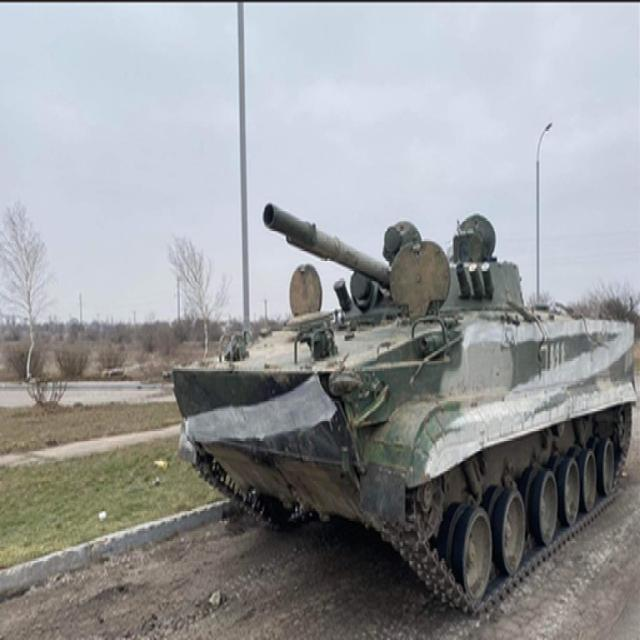APC-IFV: (173, 189, 636, 615)
